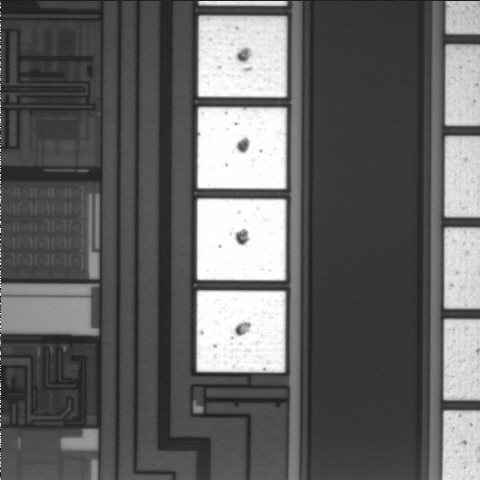pad: (197, 107, 287, 189), (198, 16, 287, 97), (197, 199, 286, 280), (197, 291, 286, 372)
